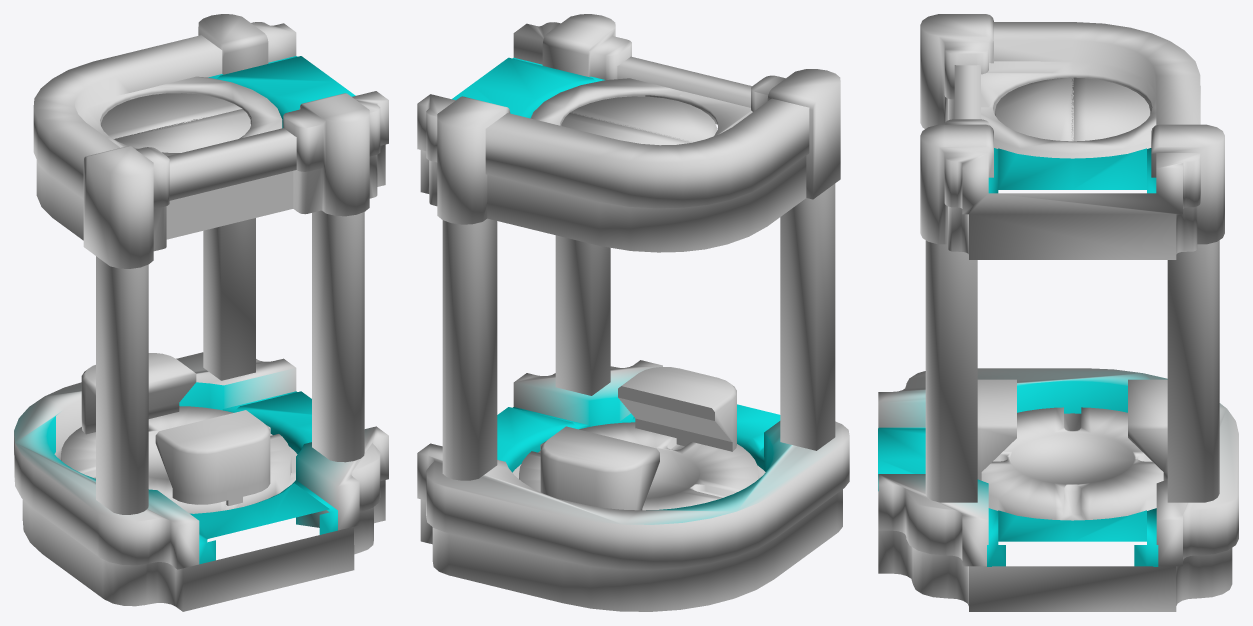
Rendered from StackerDefaultInternalVariant.gltf.
3 renders of one model, left to right at view 1: azimuth 30°, elevation 25°; view 2: azimuth 150°, elevation 25°; view 3: azimuth 270°, elevation 25°, orthographic. The views are drawn at different scales.
Visible parts, largest first — view 1: Stacker_Left_Main_LOD0, Stacker_Default_PusherLeft_LOD0, Stacker_Default_DoorRight_LOD0, Stacker_Default_PusherRight_LOD0, Stacker_Default_DoorLeft_LOD0; view 2: Stacker_Left_Main_LOD0, Stacker_Default_PusherRight_LOD0, Stacker_Default_PusherLeft_LOD0, Stacker_Default_DoorLeft_LOD0, Stacker_Default_DoorRight_LOD0; view 3: Stacker_Left_Main_LOD0, Stacker_Default_DoorLeft_LOD0, Stacker_Default_DoorRight_LOD0, Stacker_Default_PusherLeft_LOD0, Stacker_Default_PusherRight_LOD0.
Boxes of the visible parts, bbox=[...] form: Stacker_Left_Main_LOD0: bbox=[14, 14, 388, 611]; Stacker_Default_PusherLeft_LOD0: bbox=[155, 410, 270, 505]; Stacker_Default_DoorRight_LOD0: bbox=[101, 93, 242, 138]; Stacker_Default_PusherRight_LOD0: bbox=[81, 353, 196, 434]; Stacker_Default_DoorLeft_LOD0: bbox=[114, 109, 250, 152]; Stacker_Left_Main_LOD0: bbox=[417, 14, 849, 611]; Stacker_Default_PusherRight_LOD0: bbox=[540, 426, 659, 510]; Stacker_Default_PusherLeft_LOD0: bbox=[618, 367, 736, 451]; Stacker_Default_DoorLeft_LOD0: bbox=[570, 96, 716, 142]; Stacker_Default_DoorRight_LOD0: bbox=[561, 112, 691, 145]; Stacker_Left_Main_LOD0: bbox=[878, 14, 1238, 611]; Stacker_Default_DoorLeft_LOD0: bbox=[995, 77, 1073, 141]; Stacker_Default_DoorRight_LOD0: bbox=[1071, 77, 1150, 141]; Stacker_Default_PusherLeft_LOD0: bbox=[977, 379, 1016, 480]; Stacker_Default_PusherRight_LOD0: bbox=[1128, 379, 1167, 480].
Bounding box in the file's own units: 0.9293 × 1.28 × 0.9293.
